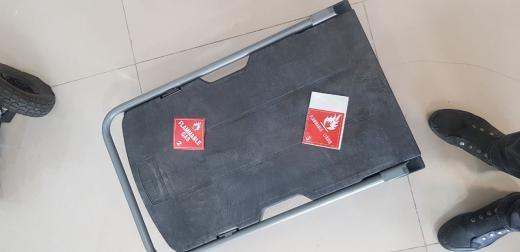flammable: (302, 108, 344, 150), (173, 117, 205, 150)
